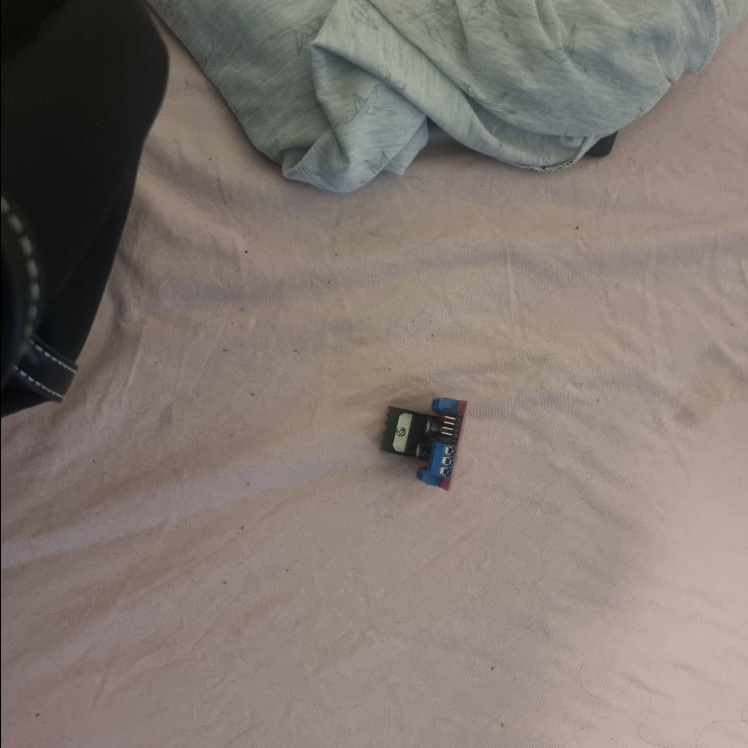MOTOR: (378, 390, 471, 492)
